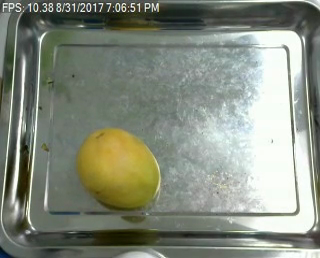Mango: (77, 129, 161, 208)
